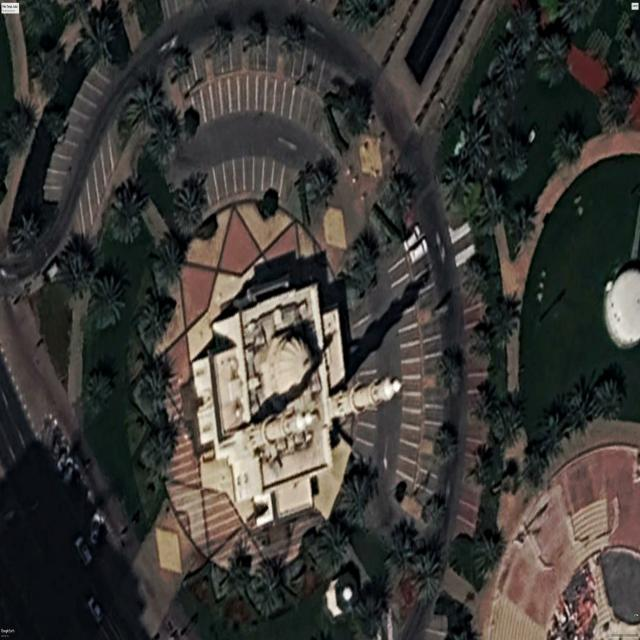mosque: (192, 283, 401, 527)
